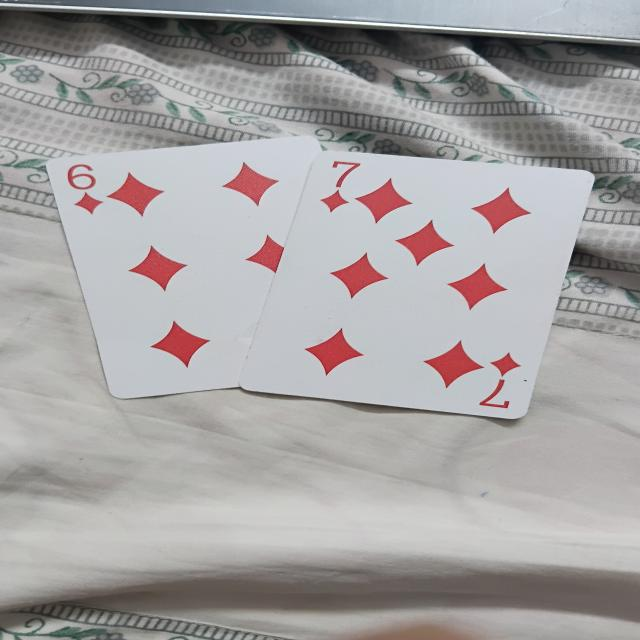7D: (232, 150, 596, 419)
